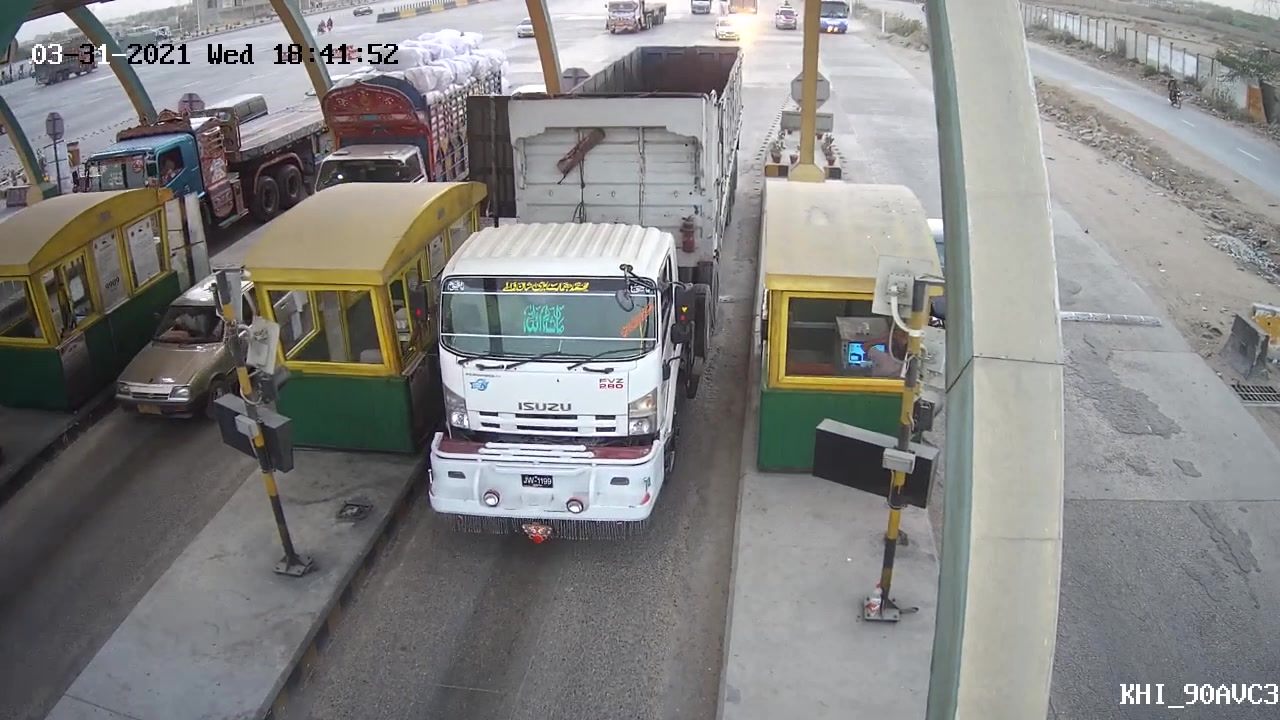F6: (409, 37, 750, 541)
